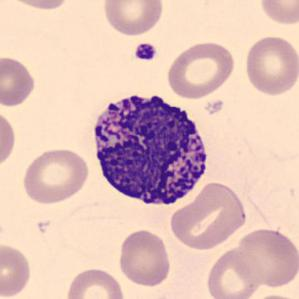Basophil: (87, 85, 214, 212)
Platelets: (132, 41, 159, 63)
RBC: (168, 180, 249, 252), (165, 40, 237, 100), (20, 145, 90, 206), (233, 226, 298, 289), (243, 33, 298, 97), (116, 228, 173, 288), (204, 245, 264, 299), (100, 0, 165, 37), (0, 53, 38, 108), (63, 266, 126, 299), (0, 240, 33, 298), (0, 106, 17, 171), (258, 0, 298, 26), (2, 0, 75, 12), (247, 292, 298, 299)
